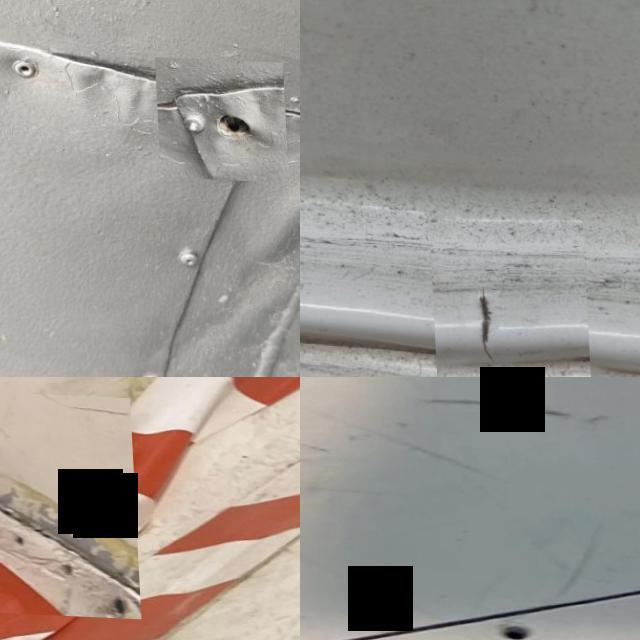Crack: (0, 384, 135, 616), (426, 200, 589, 377)
Missing_Fastener: (152, 54, 285, 180), (486, 616, 535, 640)
